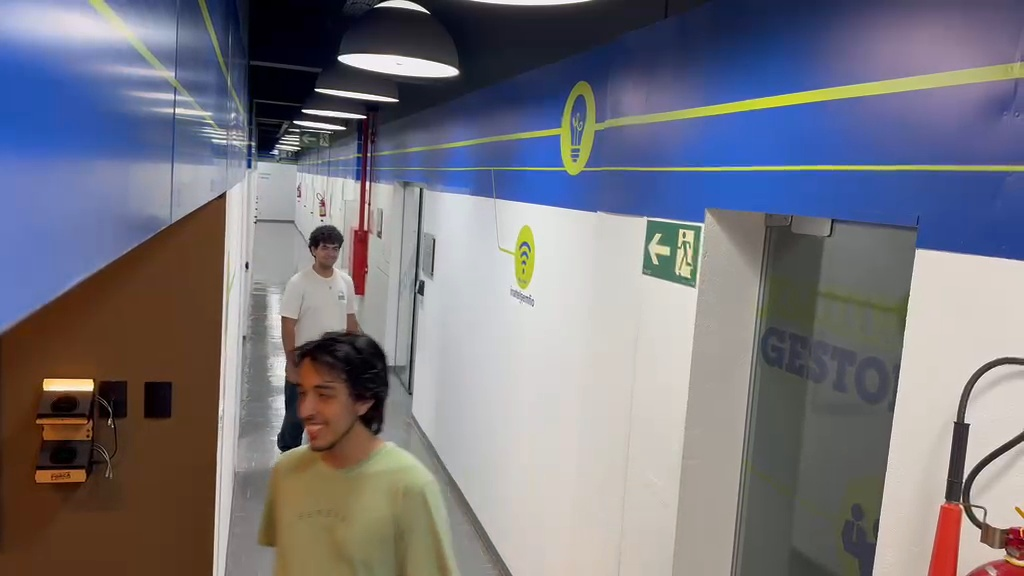person: (256, 333, 461, 573), (278, 223, 363, 453)
